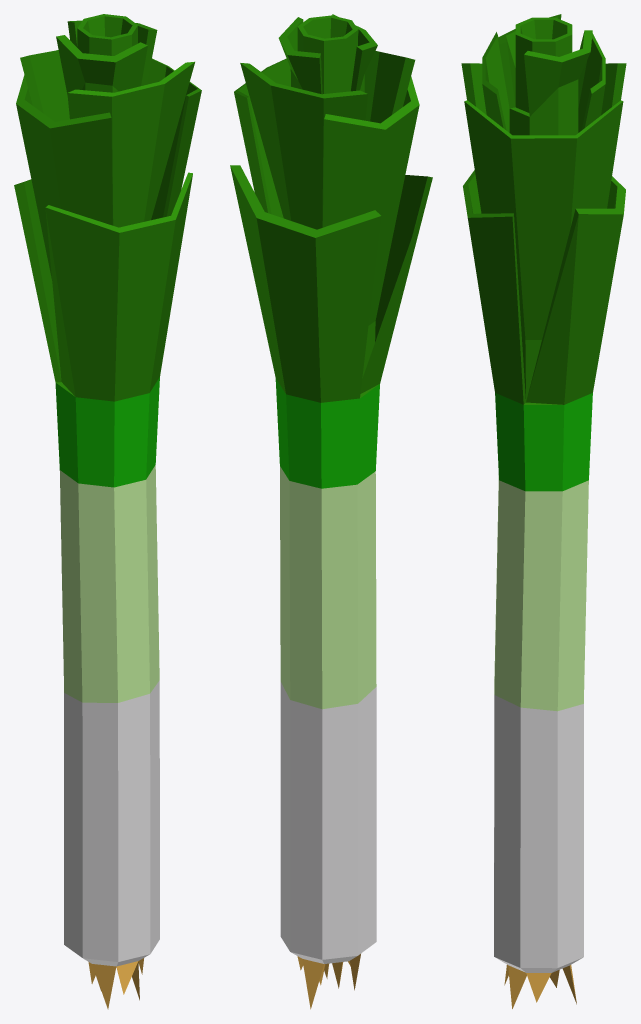
The model's file is leek01.gltf.
3 renders of one model, left to right at view 1: azimuth 30°, elevation 25°; view 2: azimuth 150°, elevation 25°; view 3: azimuth 270°, elevation 25°, orthographic.
Visible parts, largest first — view 1: Cylinder.001; view 2: Cylinder.001; view 3: Cylinder.001.
Part boxes in pixels (x1=…): Cylinder.001: x1=14, y1=14, x2=201, y2=1009; Cylinder.001: x1=230, y1=14, x2=432, y2=1009; Cylinder.001: x1=461, y1=14, x2=626, y2=1008.
Bounding box in the file's own units: 0.0711 × 0.4011 × 0.0615.
Materials: 1 (1 with a texture image).
